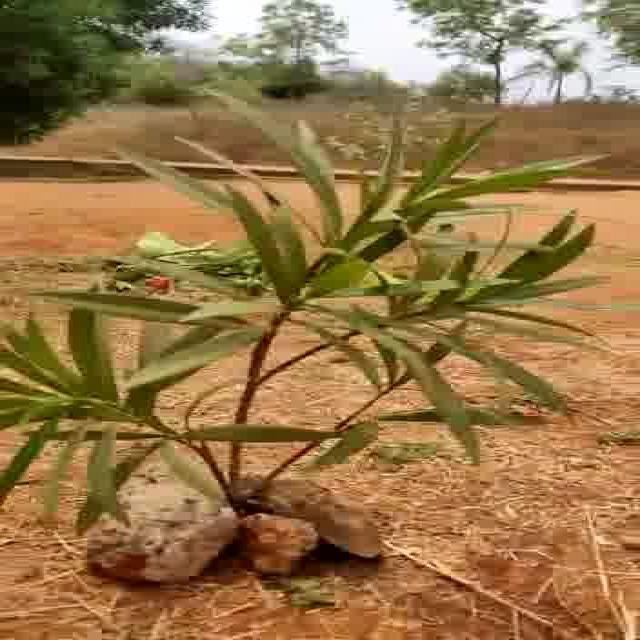OLEANDER: (22, 115, 570, 457)
